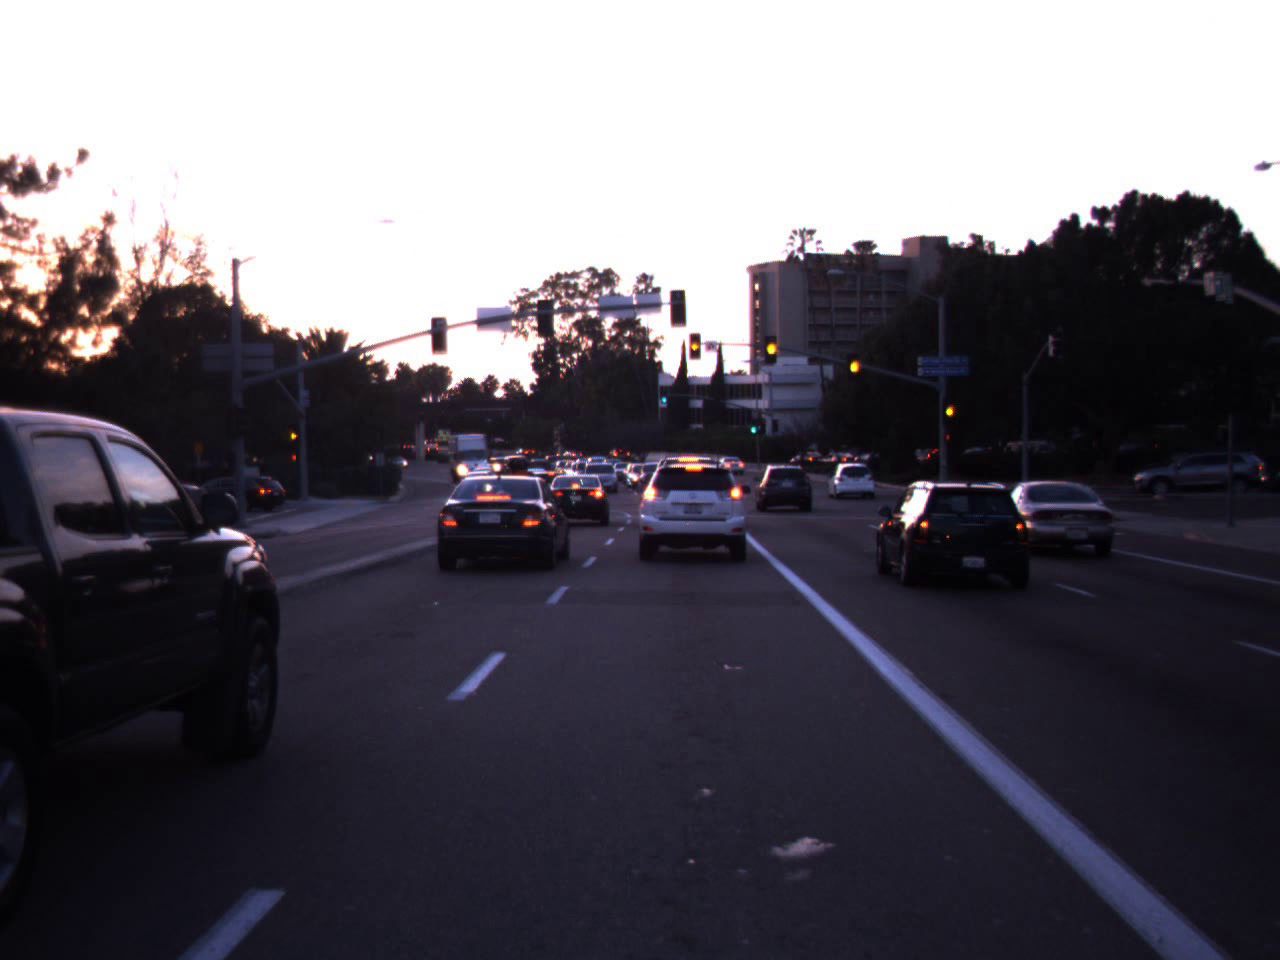go: (658, 384, 670, 404), (747, 414, 759, 434)
warning: (760, 324, 784, 369), (846, 344, 864, 384), (941, 394, 959, 425), (687, 335, 702, 357), (288, 426, 300, 444)
